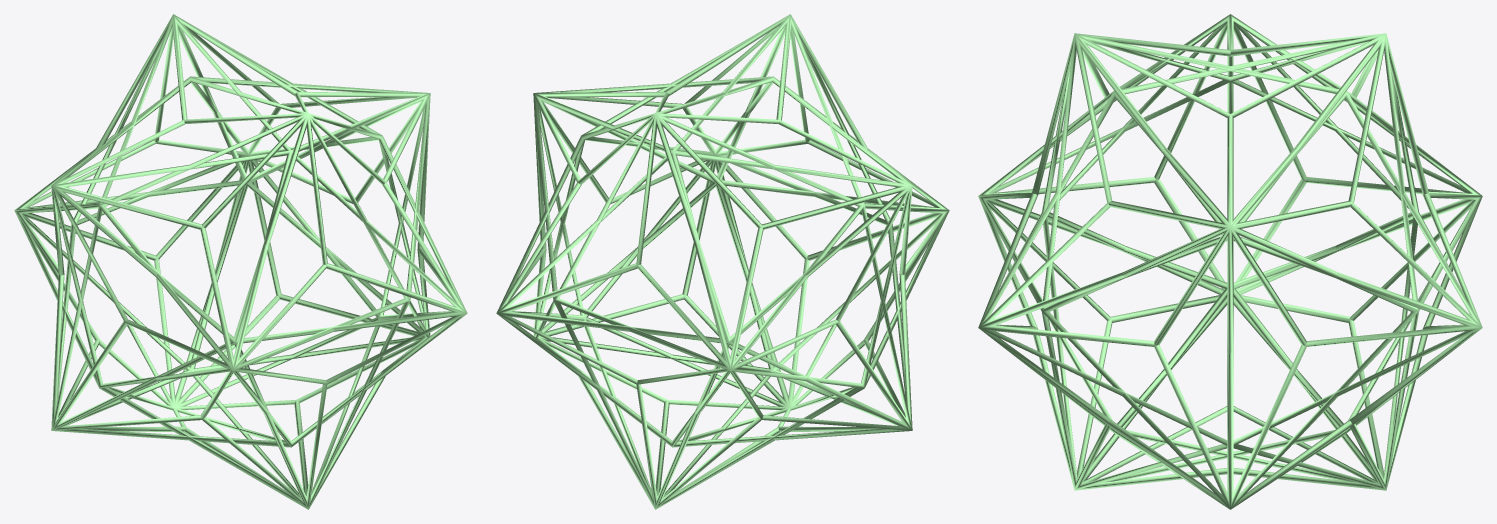
The model's file is SmallDodecacronicHexecontahedron2.glb.
The picture shows the model from 3 angles, left to right: view 1: azimuth 30°, elevation 25°; view 2: azimuth 150°, elevation 25°; view 3: azimuth 270°, elevation 25°; orthographic projection. The views are drawn at different scales.
Parts seen in each view (by area): view 1: SmallDodecacronicHexecontahedron; view 2: SmallDodecacronicHexecontahedron; view 3: SmallDodecacronicHexecontahedron.
Boxes of the visible parts, bbox=[...] form: SmallDodecacronicHexecontahedron: bbox=[14, 14, 467, 509]; SmallDodecacronicHexecontahedron: bbox=[496, 14, 949, 509]; SmallDodecacronicHexecontahedron: bbox=[978, 14, 1482, 509].
Size of the model in its own units: 5.3 by 5.3 by 5.3.
